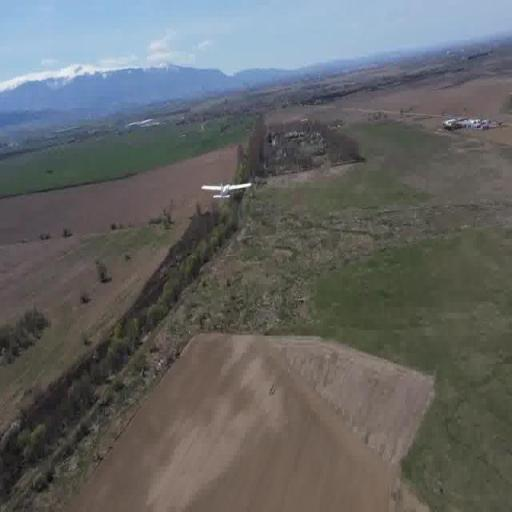uav: (198, 172, 254, 211)
